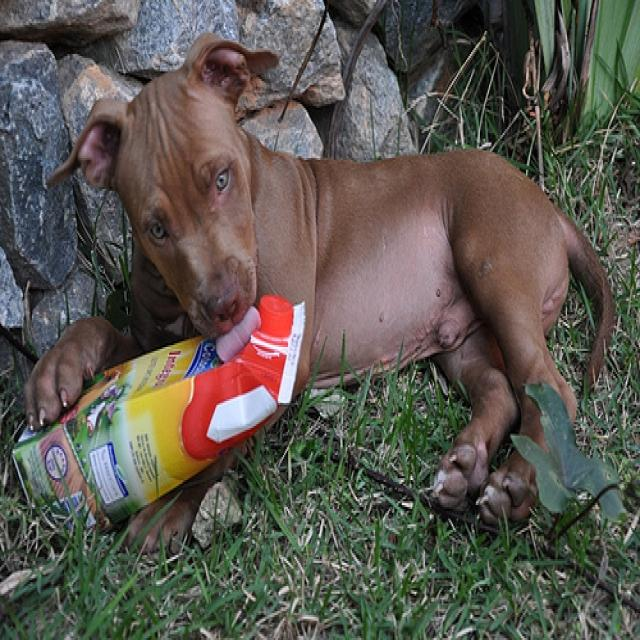dog-american_pit_bull_terrier: (14, 19, 625, 538)
